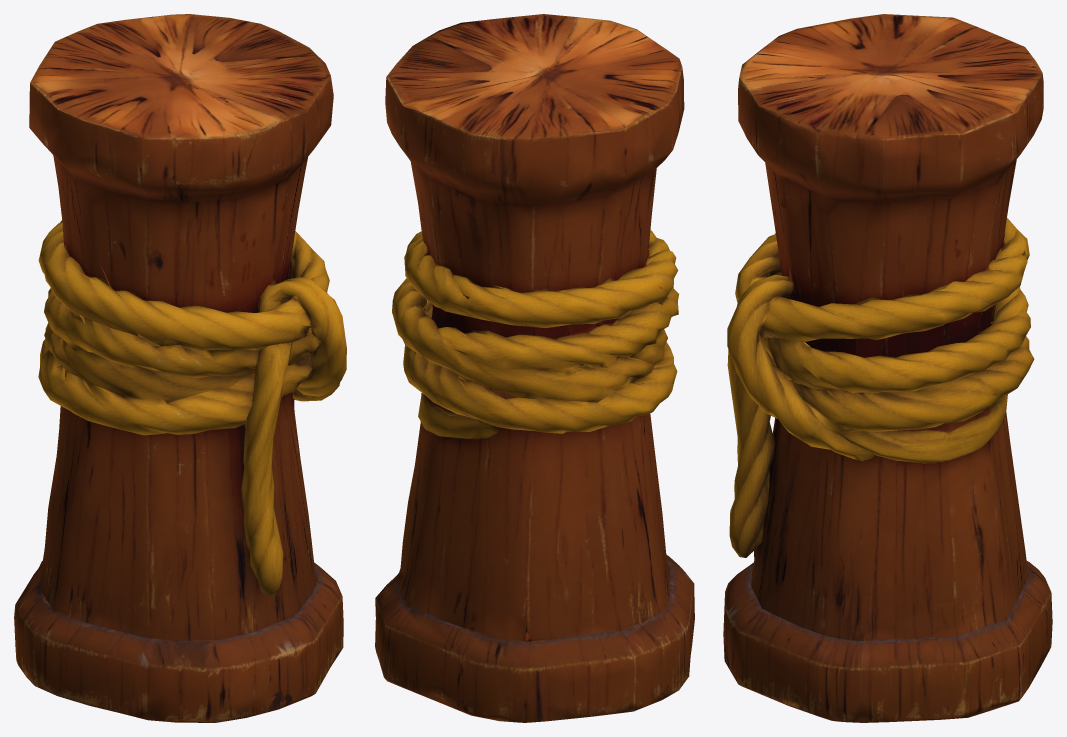
Rendered from mooring_post.glb.
3 views of the same model, side by side, from view 1: azimuth 30°, elevation 25°; view 2: azimuth 150°, elevation 25°; view 3: azimuth 270°, elevation 25° (orthographic).
Parts seen in each view (by area): view 1: world; view 2: world; view 3: world.
Part boxes in pixels (box(x1,y1,x2,y2)): world: box(14, 14, 346, 722); world: box(375, 14, 694, 722); world: box(723, 14, 1052, 722).
Bounding box in the file's own units: 0.5073 × 1 × 0.511.
Materials: 1 (1 with a texture image).
